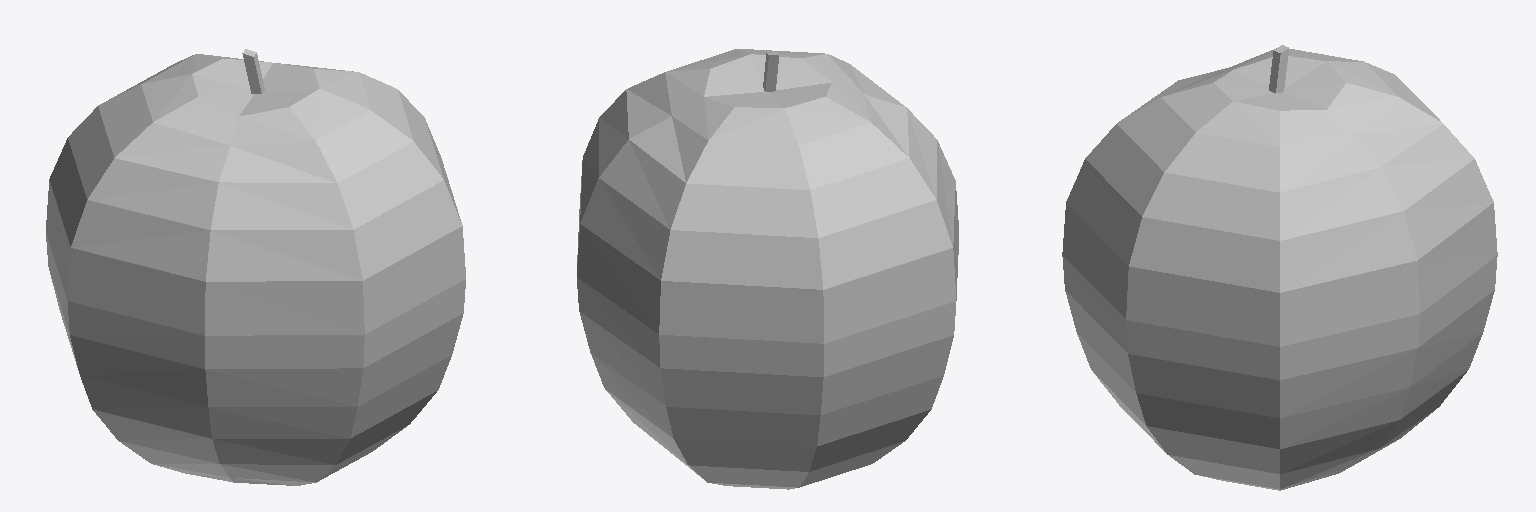
Rendered from Apple.obj.
3 renders of one model, left to right at view 1: azimuth 30°, elevation 25°; view 2: azimuth 150°, elevation 25°; view 3: azimuth 270°, elevation 25°, orthographic.
Parts seen in each view (by area): view 1: Cube.001; view 2: Cube.001; view 3: Cube.001.
Part boxes in pixels (x1,y1,x2,y2): Cube.001: (46,49,465,485); Cube.001: (577,49,958,489); Cube.001: (1062,45,1497,490).
Size of the model in its own units: 0.3685 by 0.3837 by 0.3685.